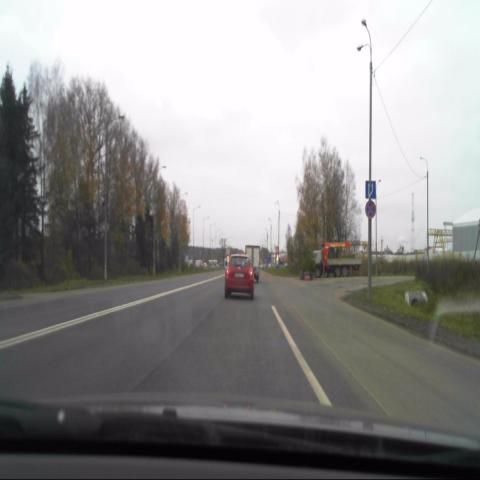3_27: (366, 199, 376, 220)
5_15_3: (365, 180, 376, 200)
